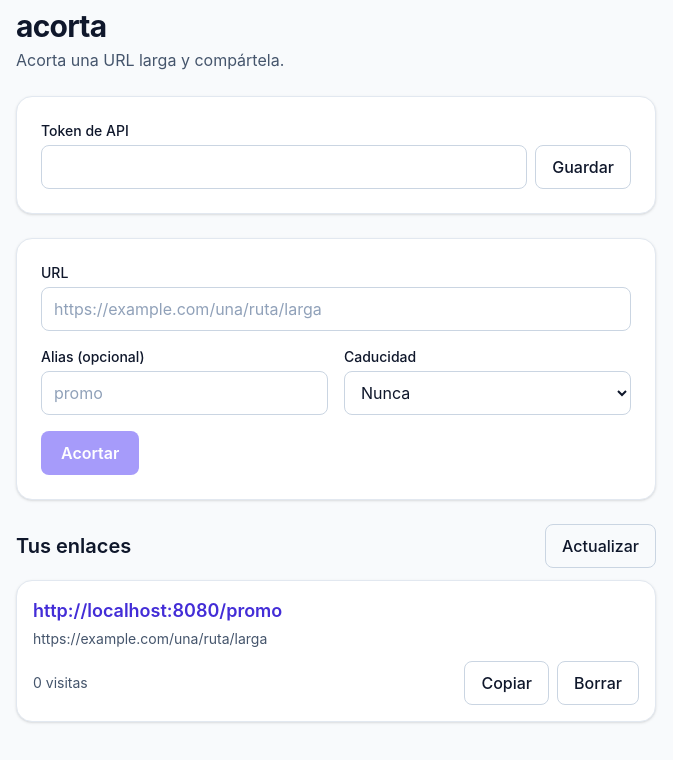
Test: listado › WEB-12: si el borrado falla muestra el error y el enlace sigue en el listado
This screenshot has width=673, height=760.
Click the button "Borrar".
click(598, 683)  # box [557,661,639,705]
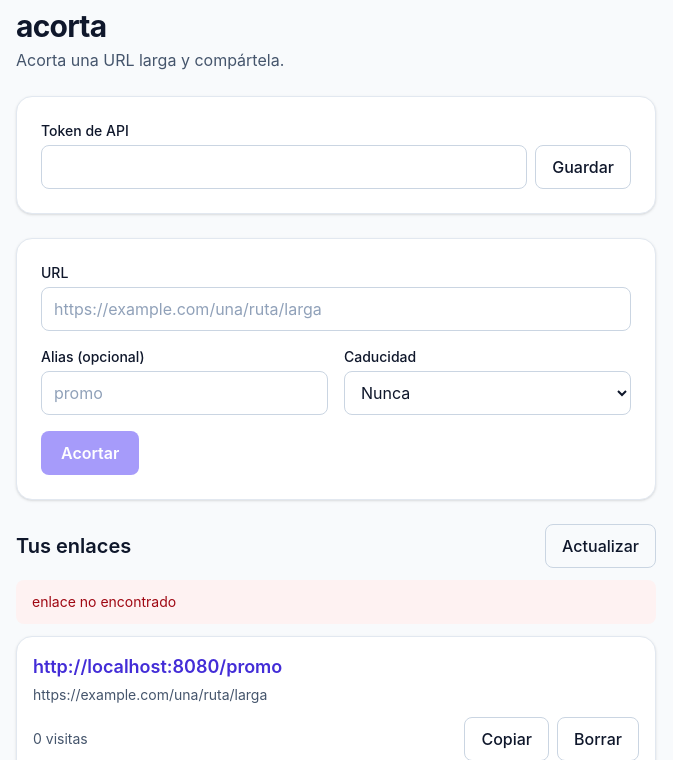
Now the text "enlace no encontrado" is shown, box [32,593,176,610]
